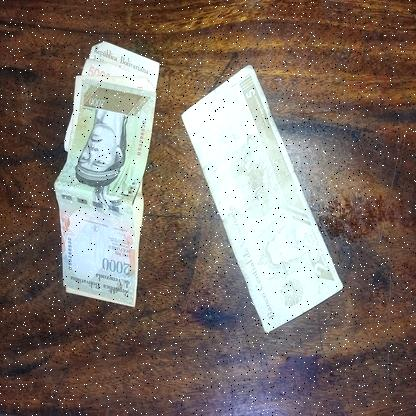five-back-vef: (180, 64, 343, 332)
